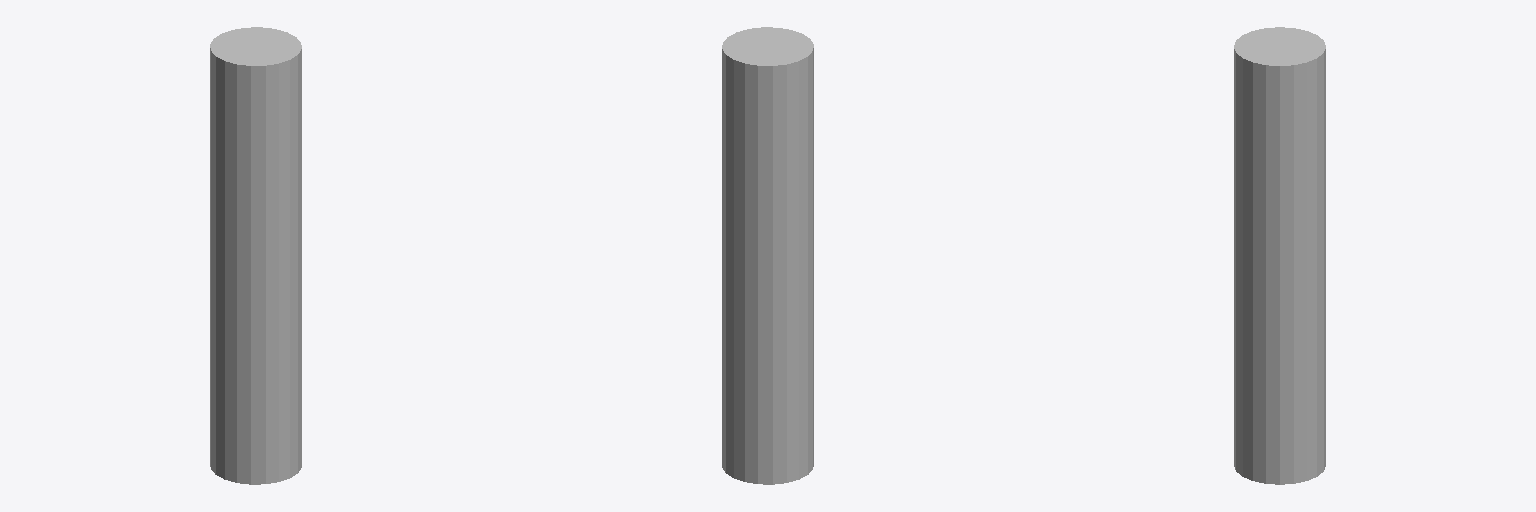
The model's file is Bar (1).obj.
3 renders of one model, left to right at view 1: azimuth 30°, elevation 25°; view 2: azimuth 150°, elevation 25°; view 3: azimuth 270°, elevation 25°, orthographic.
Parts seen in each view (by area): view 1: Bar (1); view 2: Bar (1); view 3: Bar (1).
Boxes of the visible parts, x1,y1,x2,y2 form: Bar (1): [210, 27, 301, 484]; Bar (1): [722, 27, 813, 484]; Bar (1): [1234, 27, 1325, 484].
Size of the model in its own units: 2 by 10 by 2.